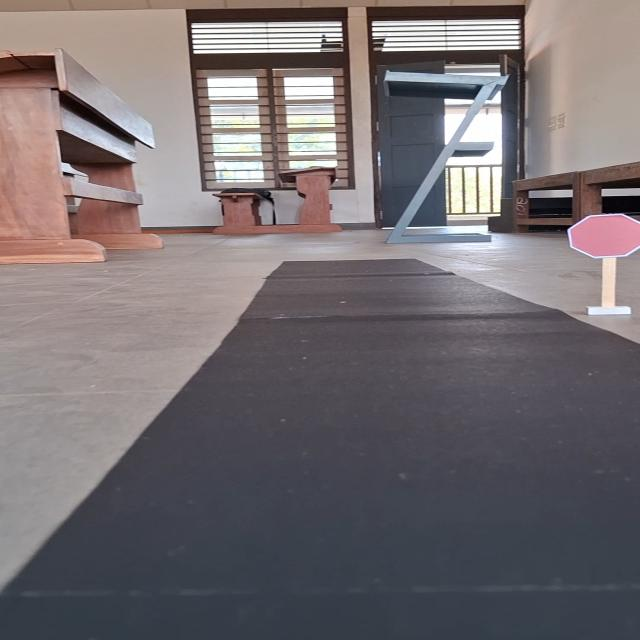Stop: (564, 212, 640, 260)
